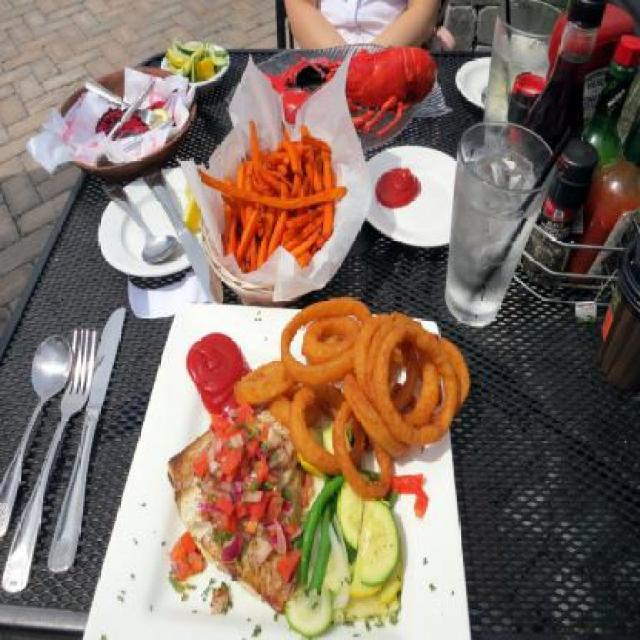Tomato: (277, 546, 300, 582), (218, 447, 242, 476), (179, 534, 201, 558), (248, 491, 270, 514), (217, 516, 240, 534), (256, 454, 270, 482), (209, 416, 229, 434), (266, 495, 282, 517), (193, 458, 210, 478), (232, 498, 250, 516), (216, 496, 232, 514), (233, 402, 253, 416), (246, 436, 260, 456)
